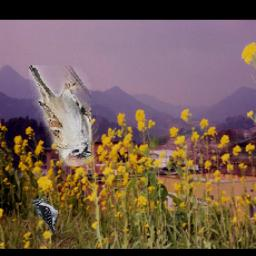Sparrow: (29, 66, 91, 167)
Woodpecker: (31, 198, 58, 235)
